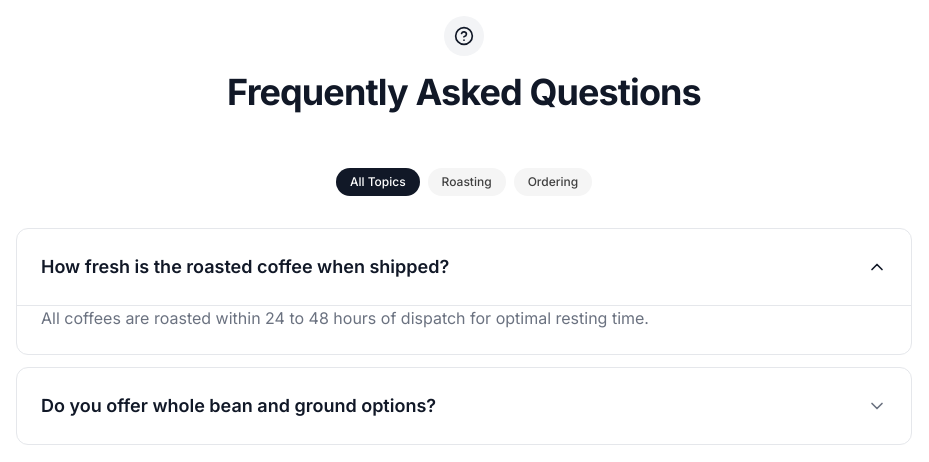
Test: Milestone 3 Reusable Section Library & SectionRenderer › FaqAccordion › expands and collapses accordion questions with accessible ARIA state
// Click second item
Step 1. Click the button "Do you offer whole bean and ground options?" → point(239, 406), box [17, 368, 911, 444]
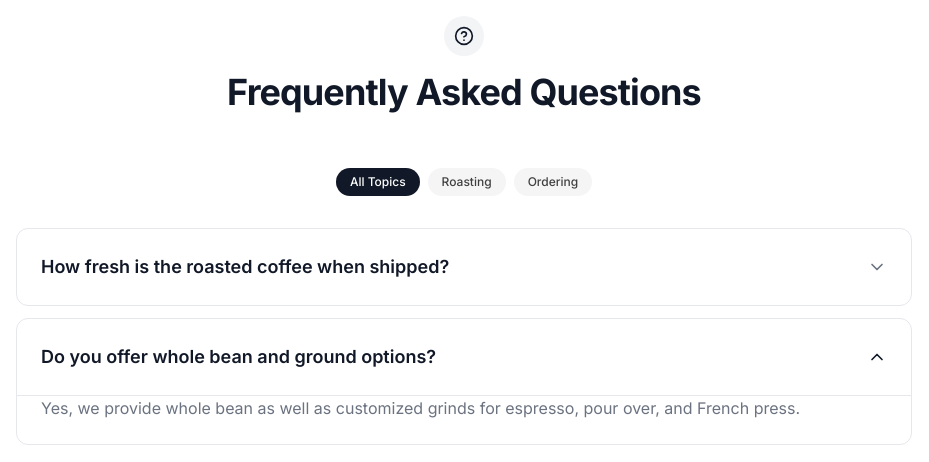
expect the button "How fresh is the roasted coffee when shipped?" is collapsed: met, box [17, 229, 911, 305]
expect the button "Do you offer whole bean and ground options?" is expanded: met, box [17, 319, 911, 395]
